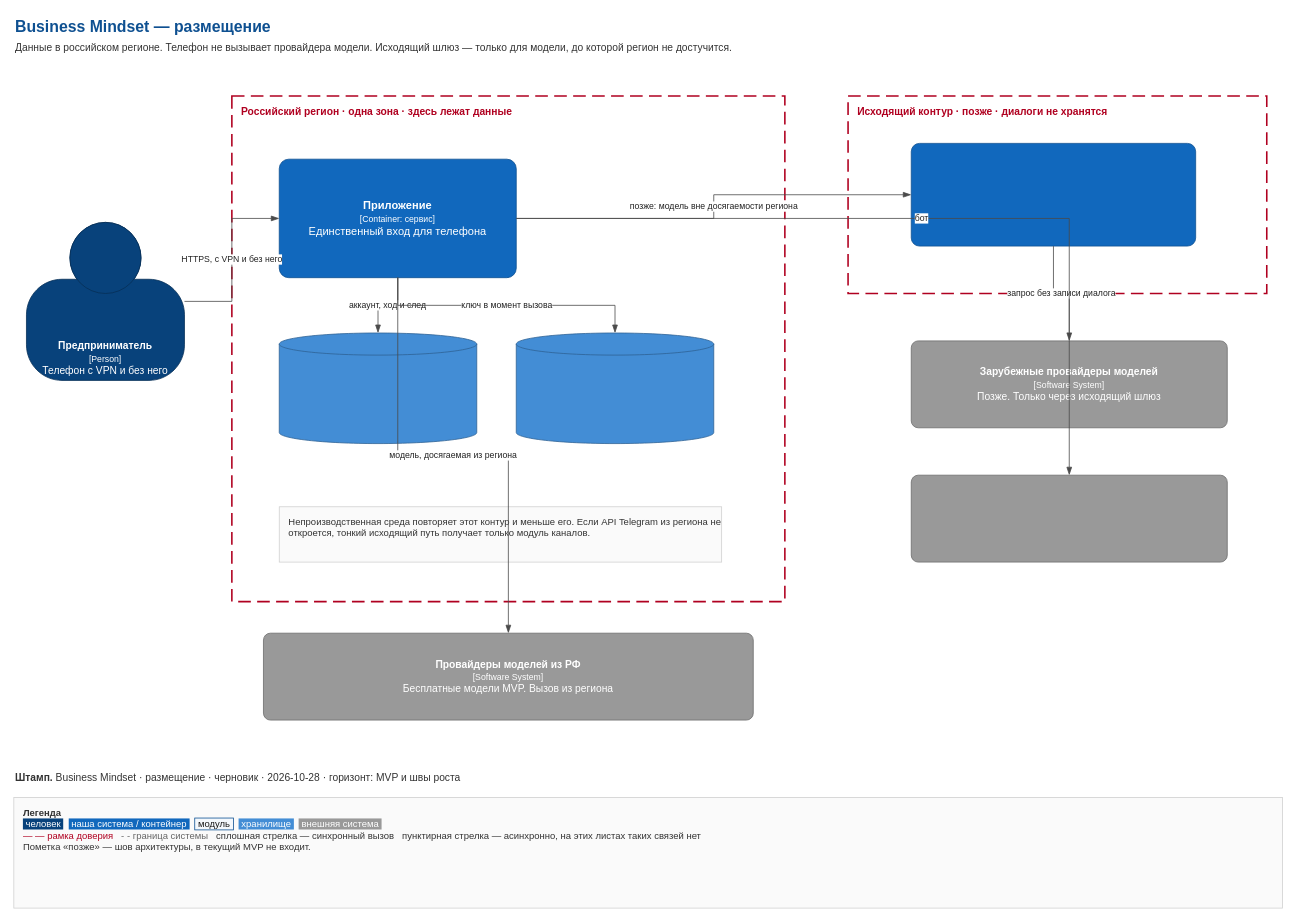
The diagram is 1296 pixels wide and 922 high, and some of its shapes have lost their labels. Each missing label, with the centre of its shape:
Telegram [Software System] Бот. Телефон к API Telegram не ходит за моделью: (1068,518)
База [Container: хранилище] Аккаунты, ходы, след: (377,388)
Исходящий шлюз [Container: шлюз] Позже. Передаёт запрос и не пишет диалог: (1053,194)
Секреты [Container: хранилище] Ключи сервиса: (614,388)
